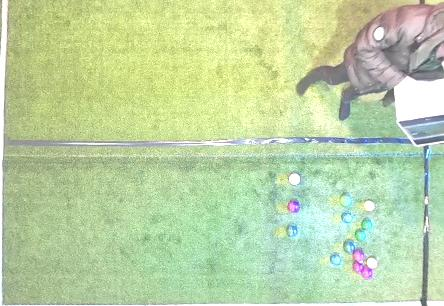blue: (330, 254, 341, 266), (341, 212, 353, 223)
green: (286, 225, 298, 237), (343, 241, 355, 253), (340, 194, 352, 206), (355, 231, 366, 241), (361, 220, 372, 230)
red: (361, 266, 374, 279), (352, 250, 365, 261), (289, 173, 300, 185), (288, 201, 299, 212), (353, 262, 363, 273)
vline: (0, 0, 12, 305), (423, 147, 443, 305)
white: (359, 261, 363, 263)
yellow: (364, 200, 375, 211), (367, 257, 377, 268)
